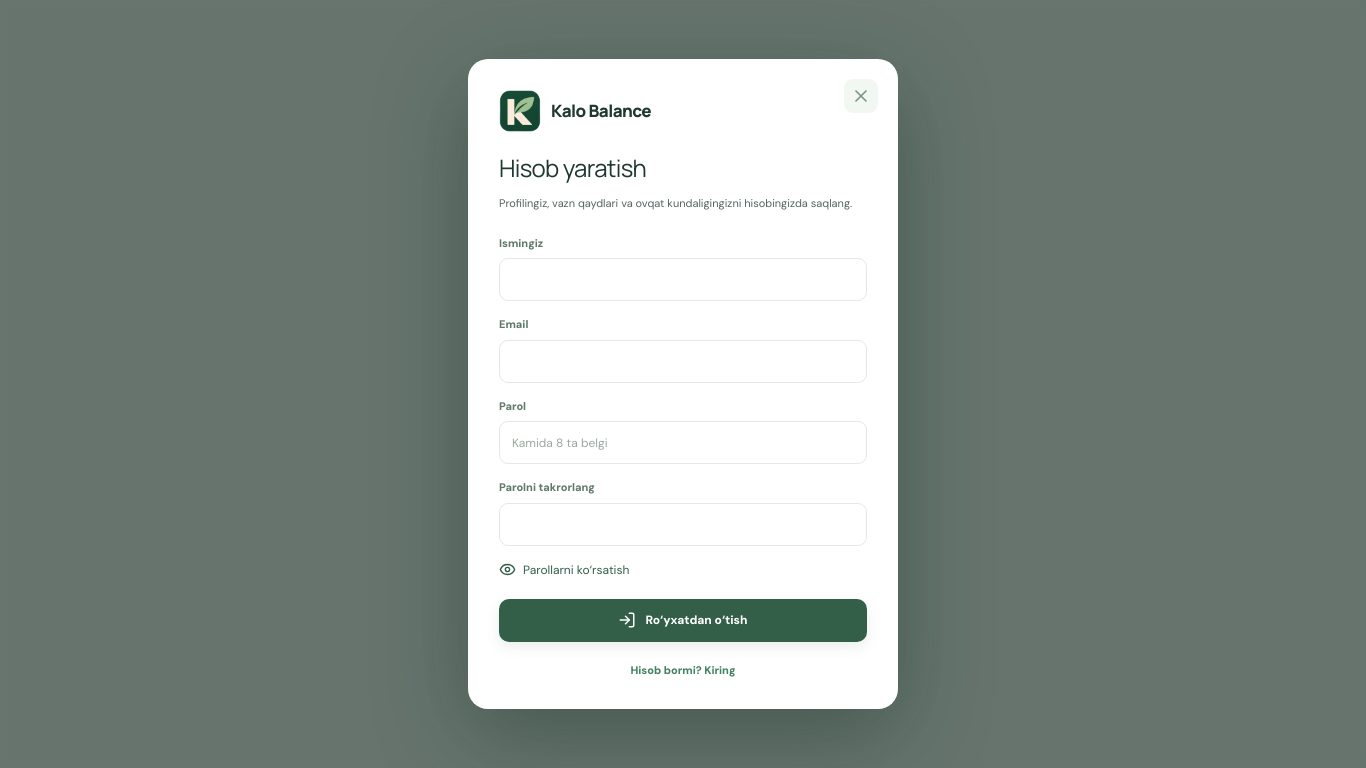
Test: Existing authentication form › shows a translated mismatch and does not submit in uz
Step 1. Type "Test User" into the field labelled "Ismingiz" → (683, 280), box [499,258,867,301]
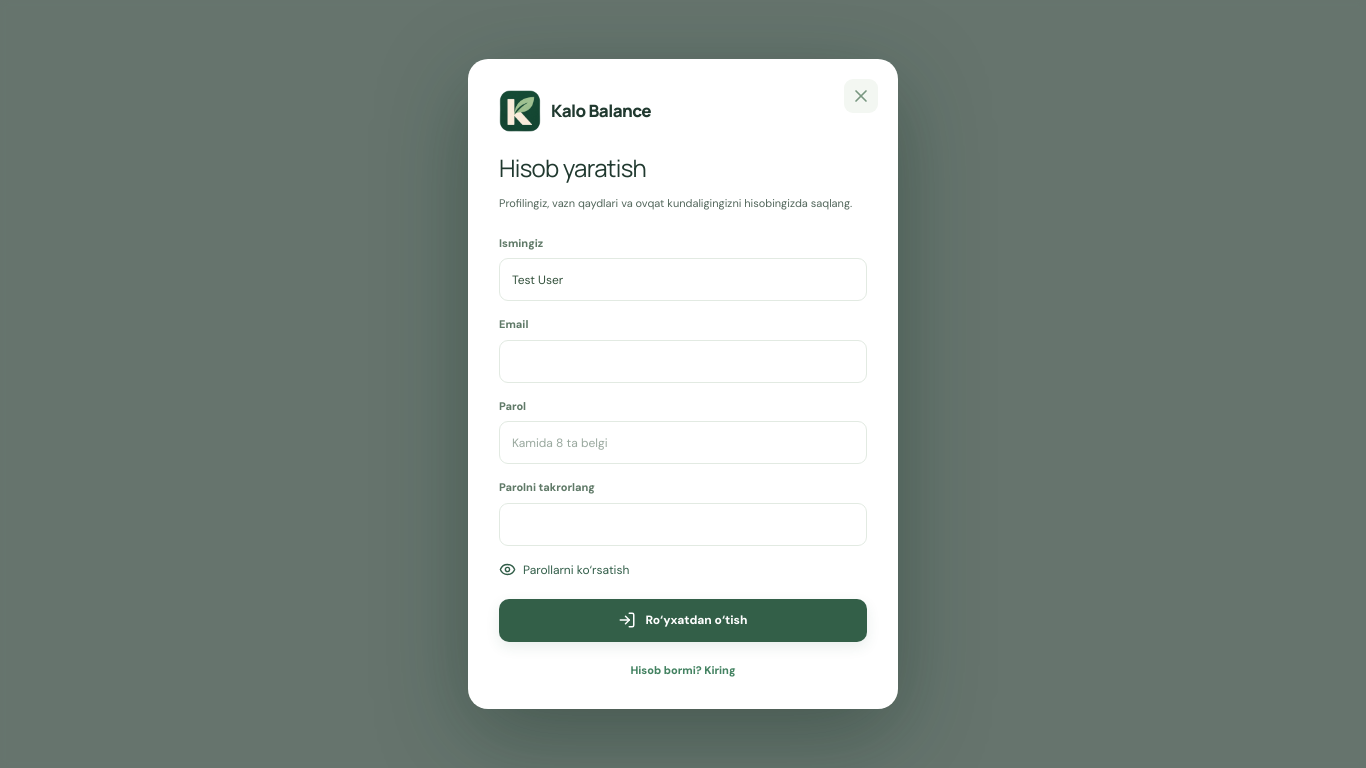
Step 2. Type "user@example.test" into the field labelled "Email" → (683, 361), box [499,340,867,383]
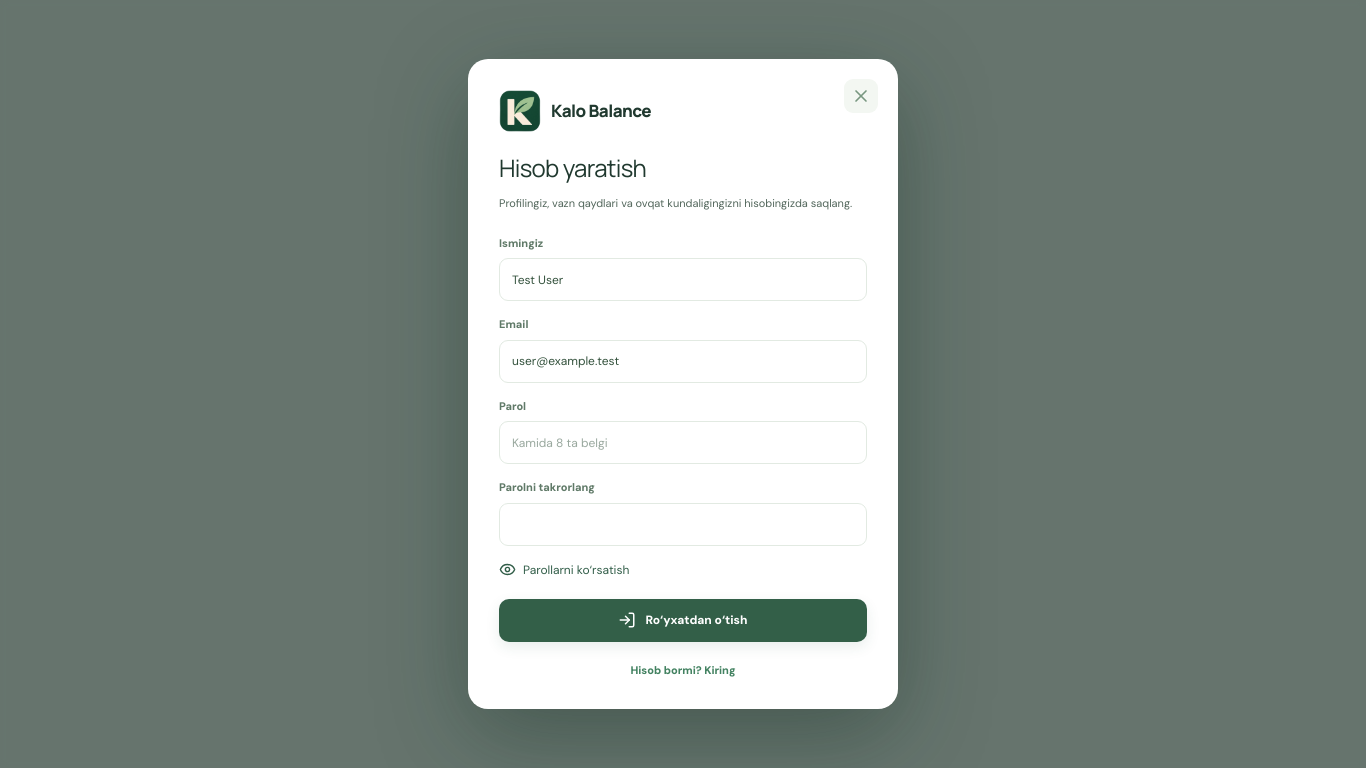
Step 3. Type "Password123" into the password field labelled "Parol" → (683, 443), box [499,421,867,464]
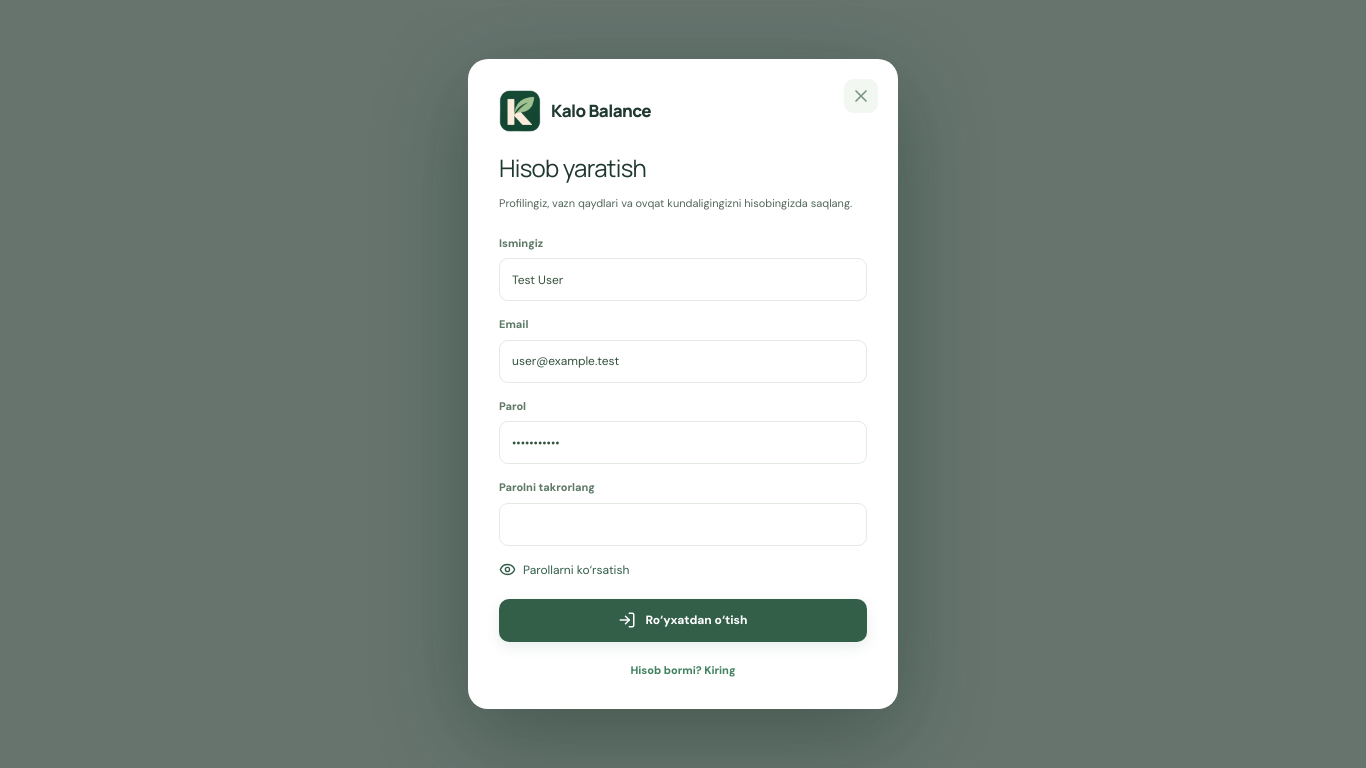
Step 4. Type "Different123" into the password field labelled "Parolni takrorlang" → (683, 524), box [499,503,867,546]
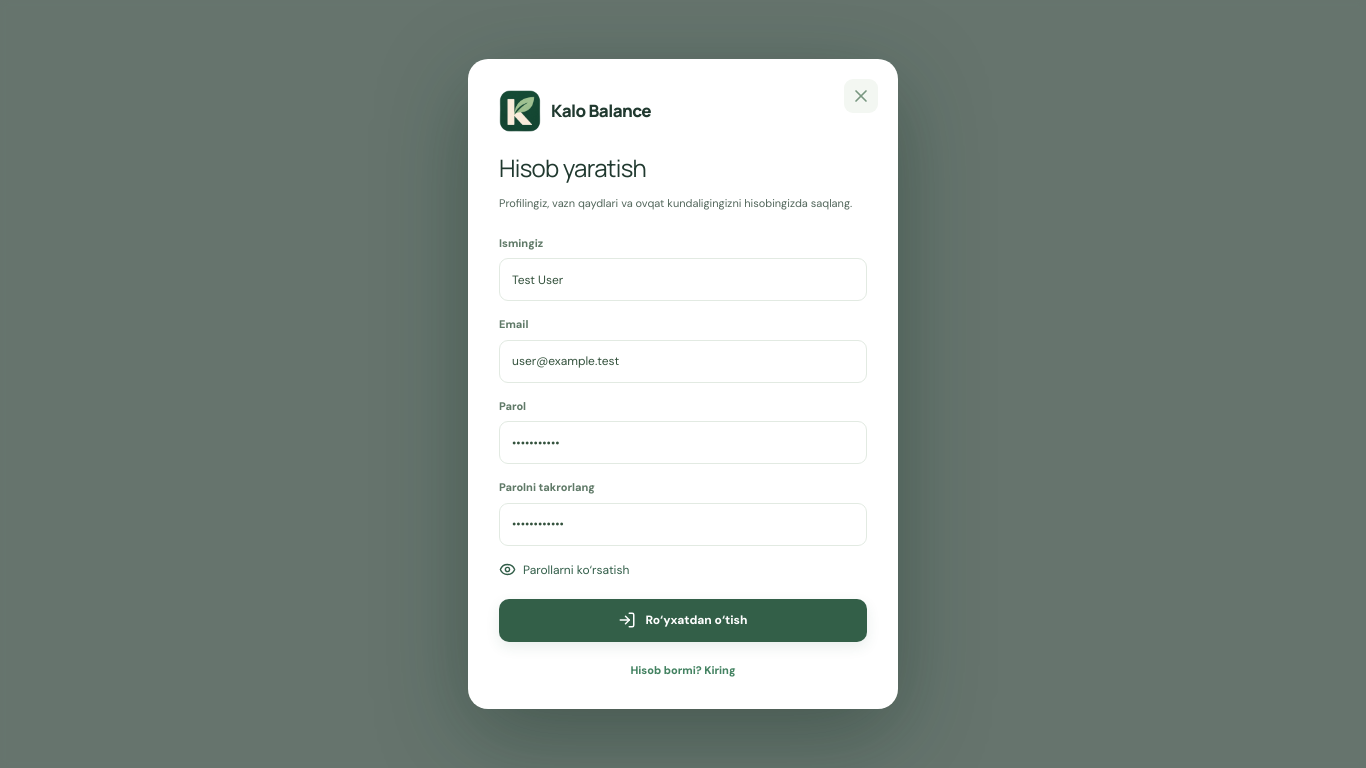
Step 5. Click the button "Ro‘yxatdan o‘tish" → (683, 620), box [499,599,867,642]
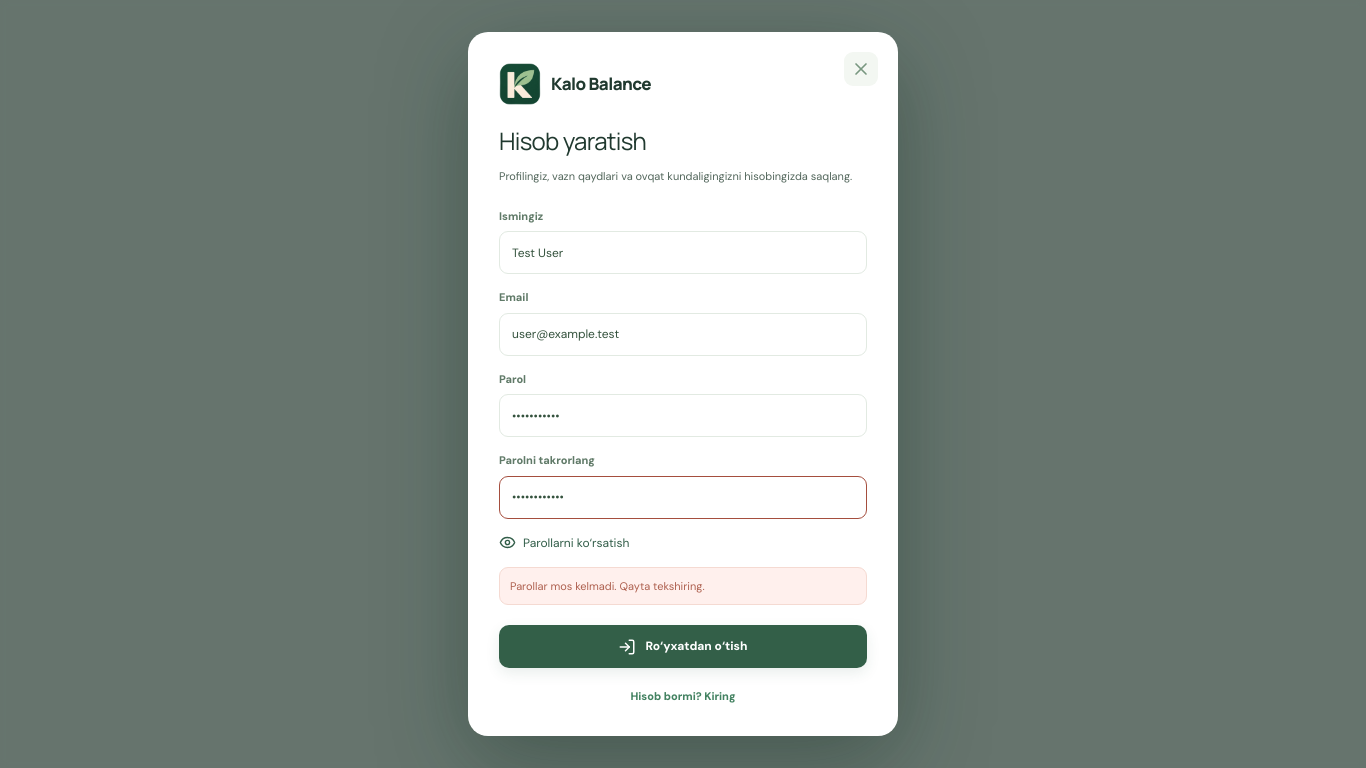
Check: the message reads "Parollar mos kelmadi. Qayta tekshiring.", box [510,579,705,593]
